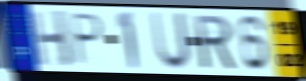1: (116, 10, 141, 70)
6: (237, 14, 270, 73)
H: (28, 9, 74, 69)
P: (70, 11, 106, 67)
R: (192, 14, 239, 72)
U: (149, 10, 193, 73)
